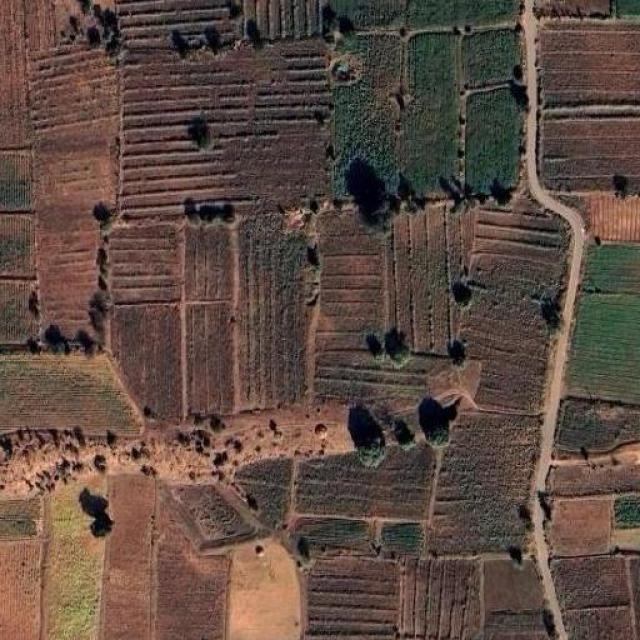land-Sx1C: (121, 40, 330, 218), (29, 45, 120, 334), (451, 196, 568, 411), (430, 411, 539, 555), (315, 329, 481, 416), (239, 215, 306, 409), (331, 33, 404, 211), (391, 204, 474, 354), (154, 482, 229, 639), (0, 354, 140, 435), (298, 445, 432, 519), (319, 211, 386, 359), (49, 474, 106, 639), (99, 474, 155, 639), (401, 32, 458, 193), (539, 19, 640, 106), (0, 0, 55, 149), (304, 556, 396, 639), (569, 295, 640, 402), (226, 539, 300, 639), (542, 116, 640, 191), (114, 306, 179, 417), (399, 560, 484, 639), (465, 88, 522, 192), (118, 0, 234, 51), (171, 485, 262, 549), (110, 222, 178, 304), (335, 0, 525, 29), (188, 304, 232, 412), (556, 399, 640, 452), (0, 540, 44, 639), (234, 458, 294, 528), (552, 558, 627, 611), (54, 0, 120, 56), (551, 498, 610, 556), (186, 228, 231, 299), (464, 30, 520, 87), (484, 560, 542, 614), (243, 0, 321, 39), (548, 466, 640, 496), (584, 244, 639, 293), (294, 518, 368, 554), (0, 280, 39, 343), (589, 194, 640, 242), (564, 606, 634, 640), (0, 214, 34, 277), (484, 610, 551, 640), (0, 152, 32, 211), (0, 499, 42, 538), (382, 524, 421, 554), (626, 556, 640, 639), (614, 497, 640, 527), (612, 528, 640, 552)
